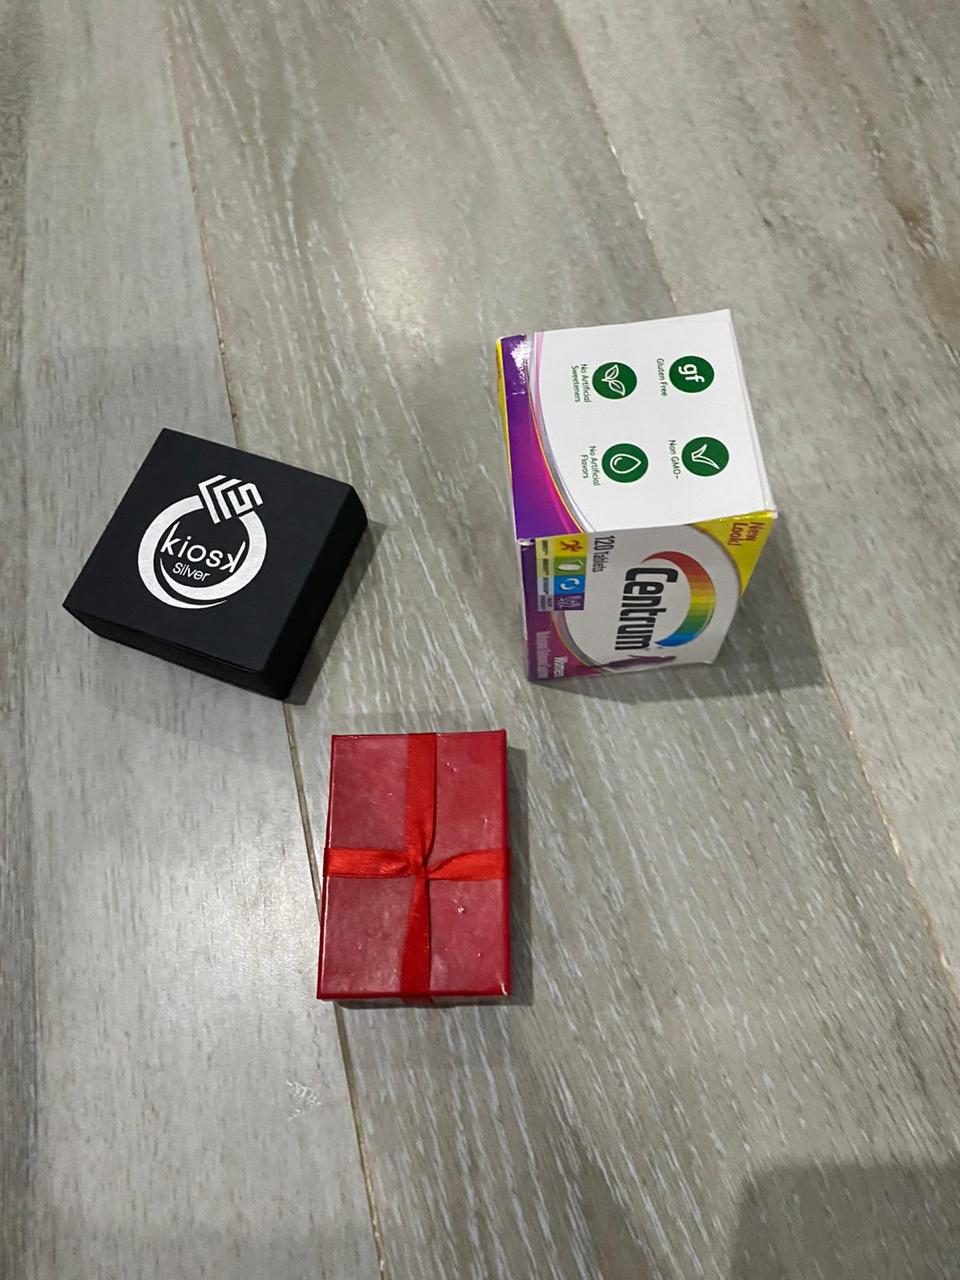Black Box: (312, 723, 527, 1019)
Centrum: (491, 305, 782, 692)
Red Box: (64, 426, 373, 707)
